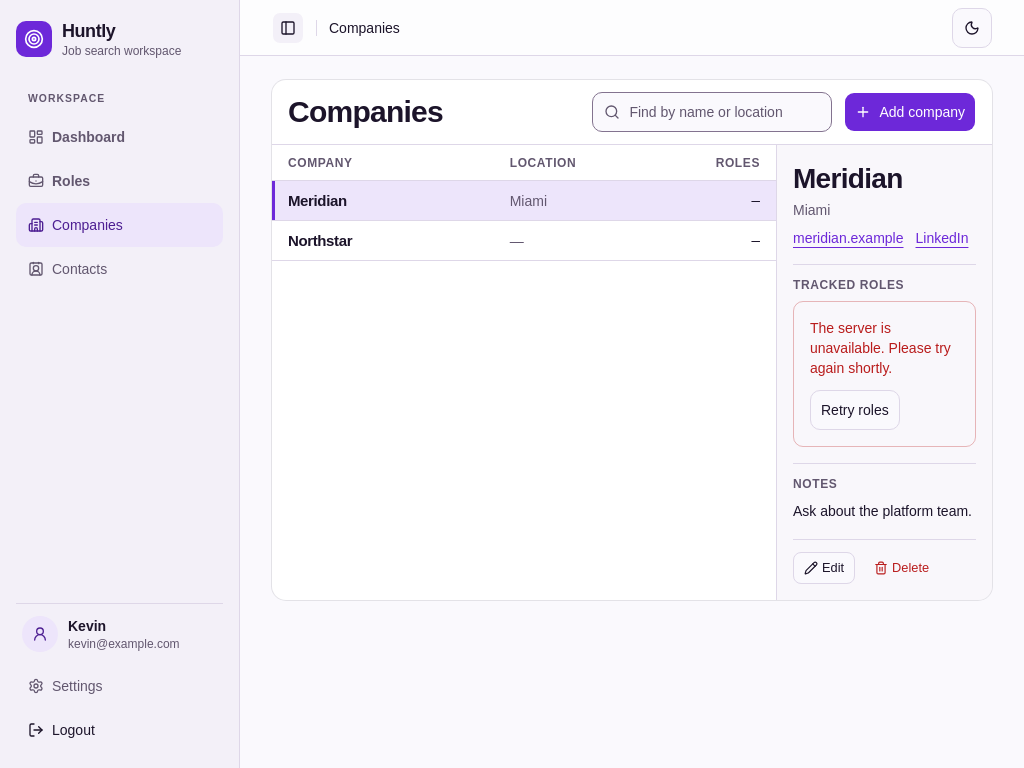
Scenario: keeps the directory usable when roles fail and shows each company's roles after retry
Click the button with aria-label "View Northstar" at x=524, y=241, box [272,221,776,261]
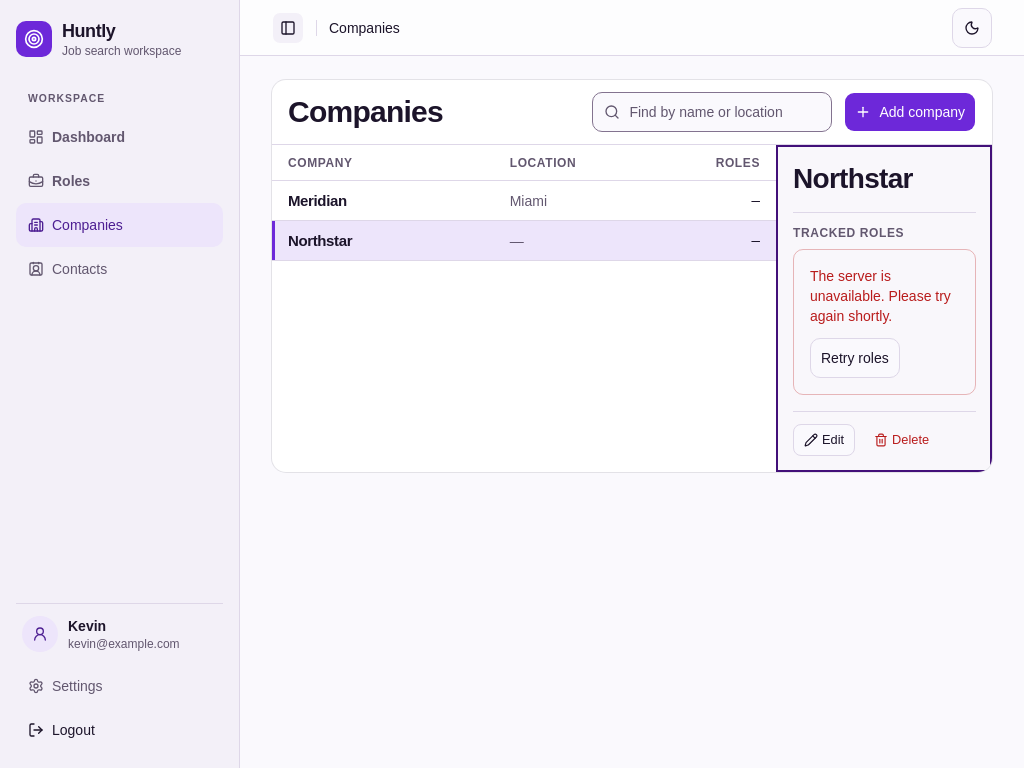
Now the button with aria-label "View Northstar" is marked as current, box [272,221,776,261]
Click the button with aria-label "View Meridian" at x=524, y=201, box [272,181,776,221]
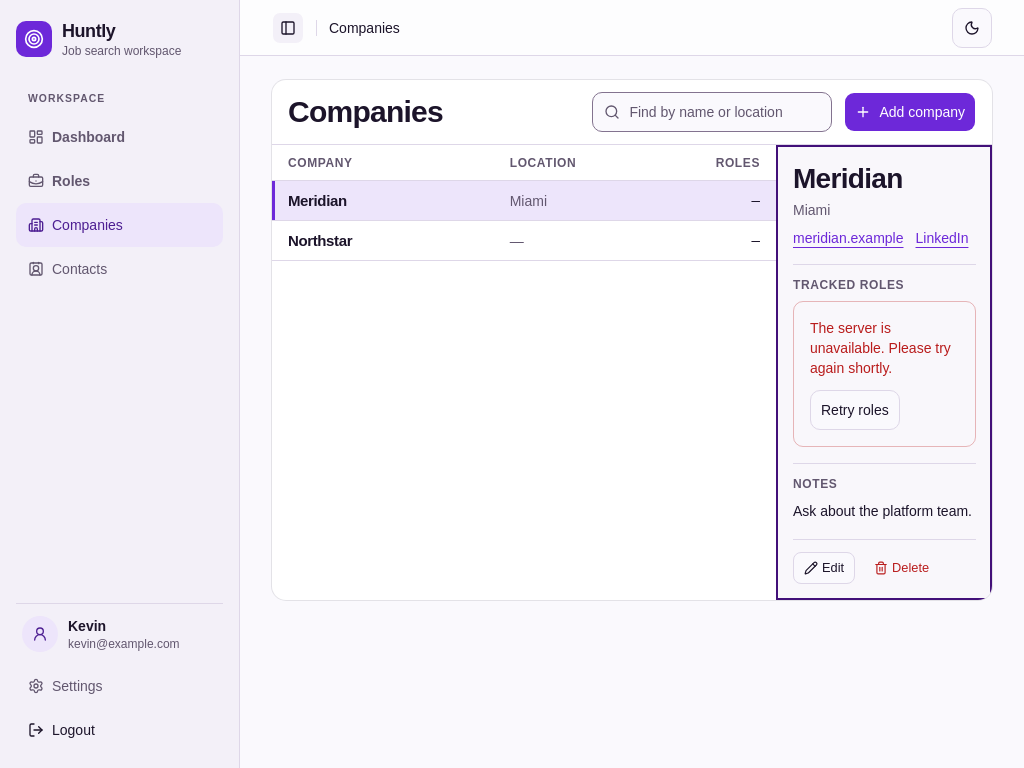
Now the heading "Meridian" is shown, box [793,163,902,194]
Now the text "Ask about the platform team." is shown, box [793,500,976,523]
Click the button "Retry roles" at x=855, y=410, box [810,390,900,430]
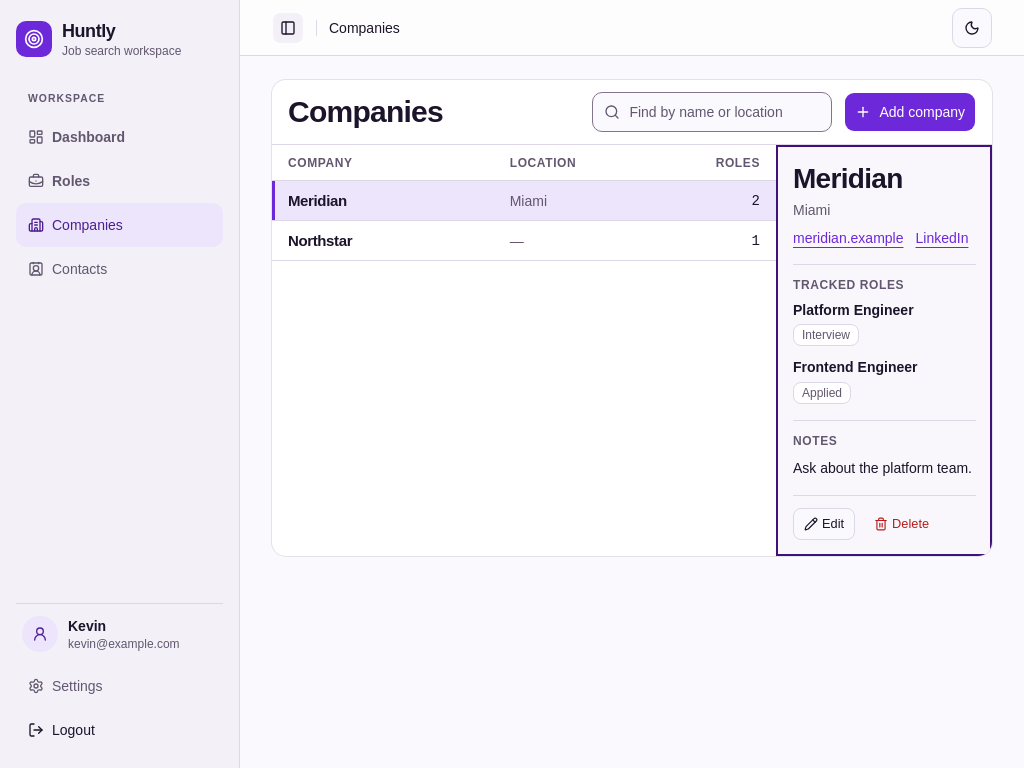
Now the text "Platform Engineer" is shown, box [793,301,914,320]
Now the text "2" is shown, box [752,192,760,208]
Now the text "1" is shown, box [752,232,760,248]
Type "North" into the search field named "Search companies" at x=712, y=112, box [592,92,832,132]
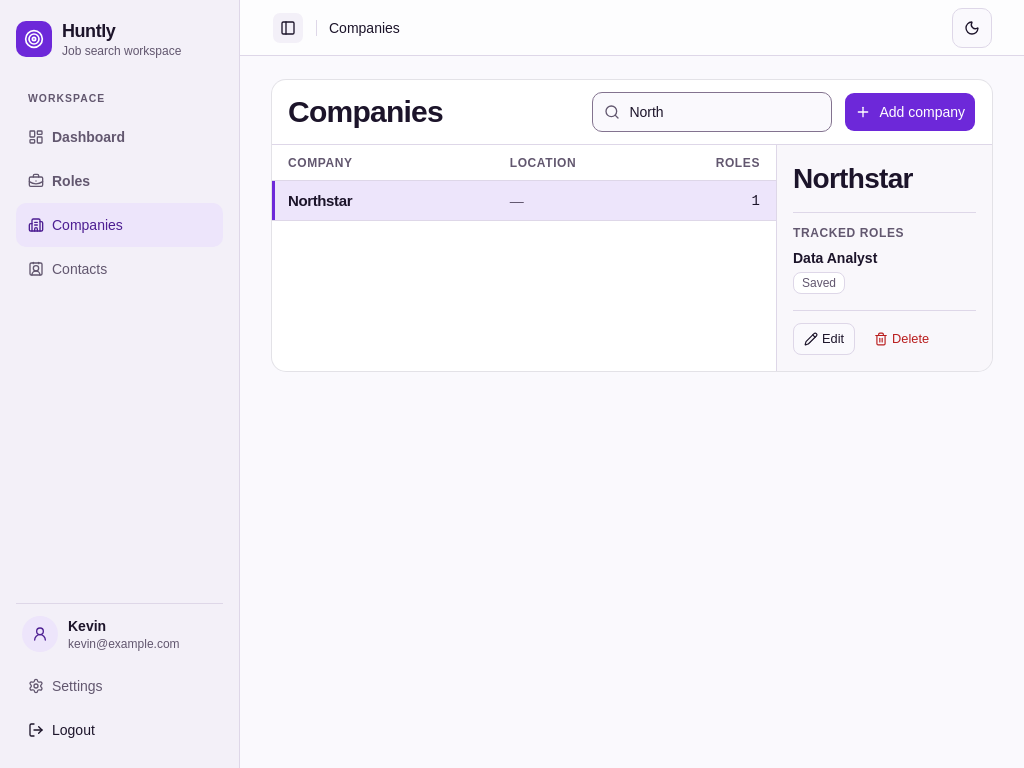
Now the heading "Northstar" is shown, box [793,163,913,194]
Now the text "Data Analyst" is shown, box [793,249,877,268]
Now the text "Saved" is shown, box [793,272,845,294]
Replace the text in the search field named "Search companies" with "no results" at x=712, y=112, box [592,92,832,132]
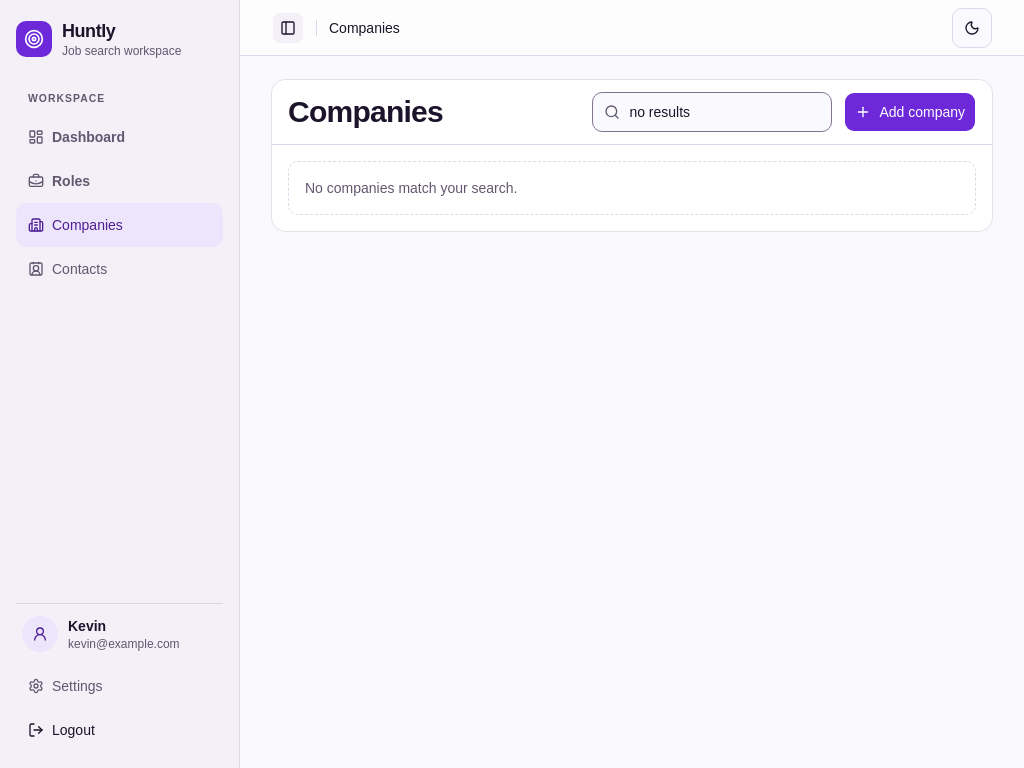
Now the text "No companies match your search." is shown, box [288,161,976,215]
Now the button "Northstar" is gone
